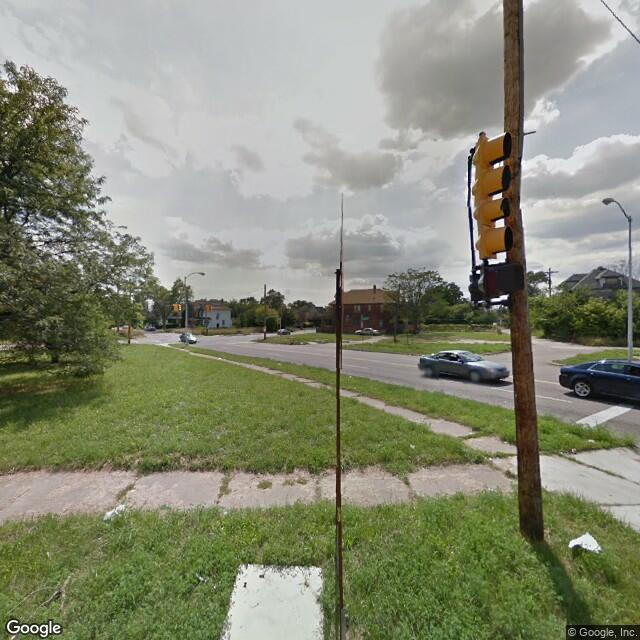litter: (564, 526, 601, 561), (93, 501, 139, 526), (585, 435, 607, 447), (405, 439, 422, 454)
